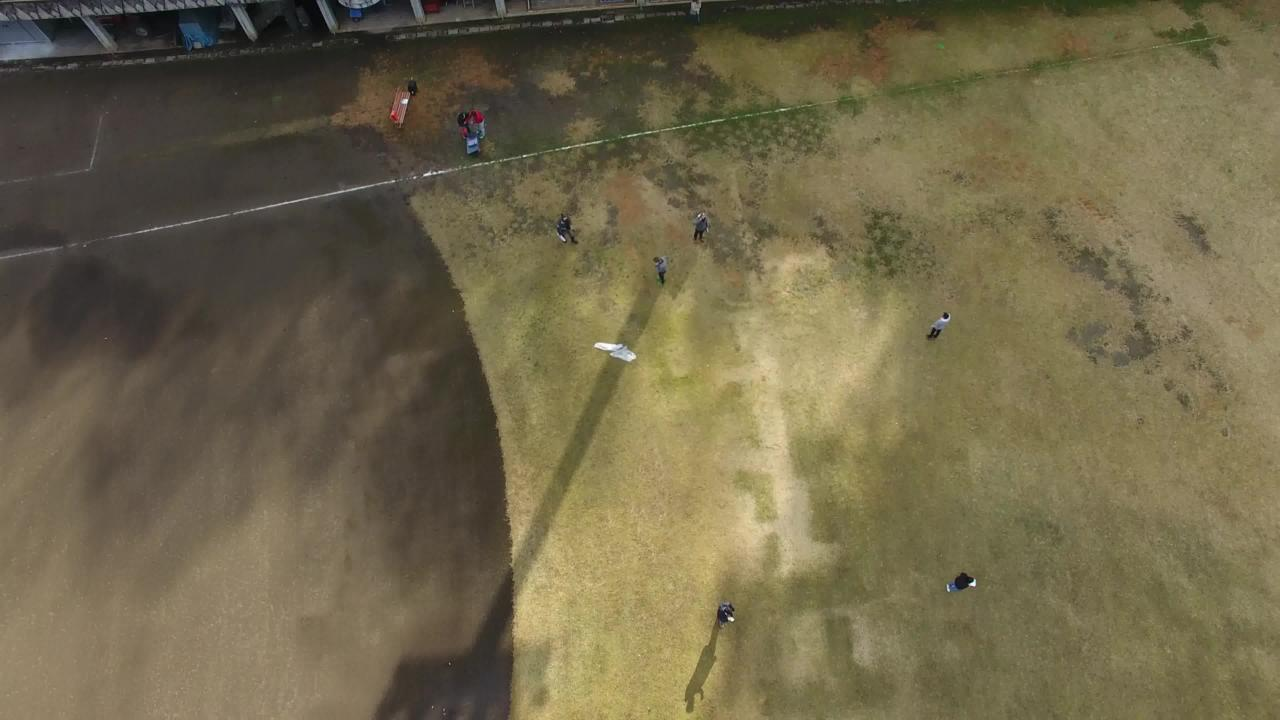person: (545, 198, 580, 256), (687, 200, 722, 258), (926, 304, 953, 353), (643, 242, 669, 291), (710, 591, 738, 633), (471, 106, 490, 139), (449, 106, 468, 139)
person is sitting: (943, 560, 976, 603)
